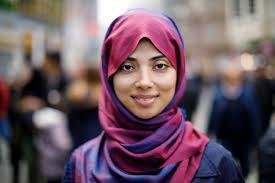scarf-kerchief: (90, 0, 211, 162), (111, 33, 193, 115)
